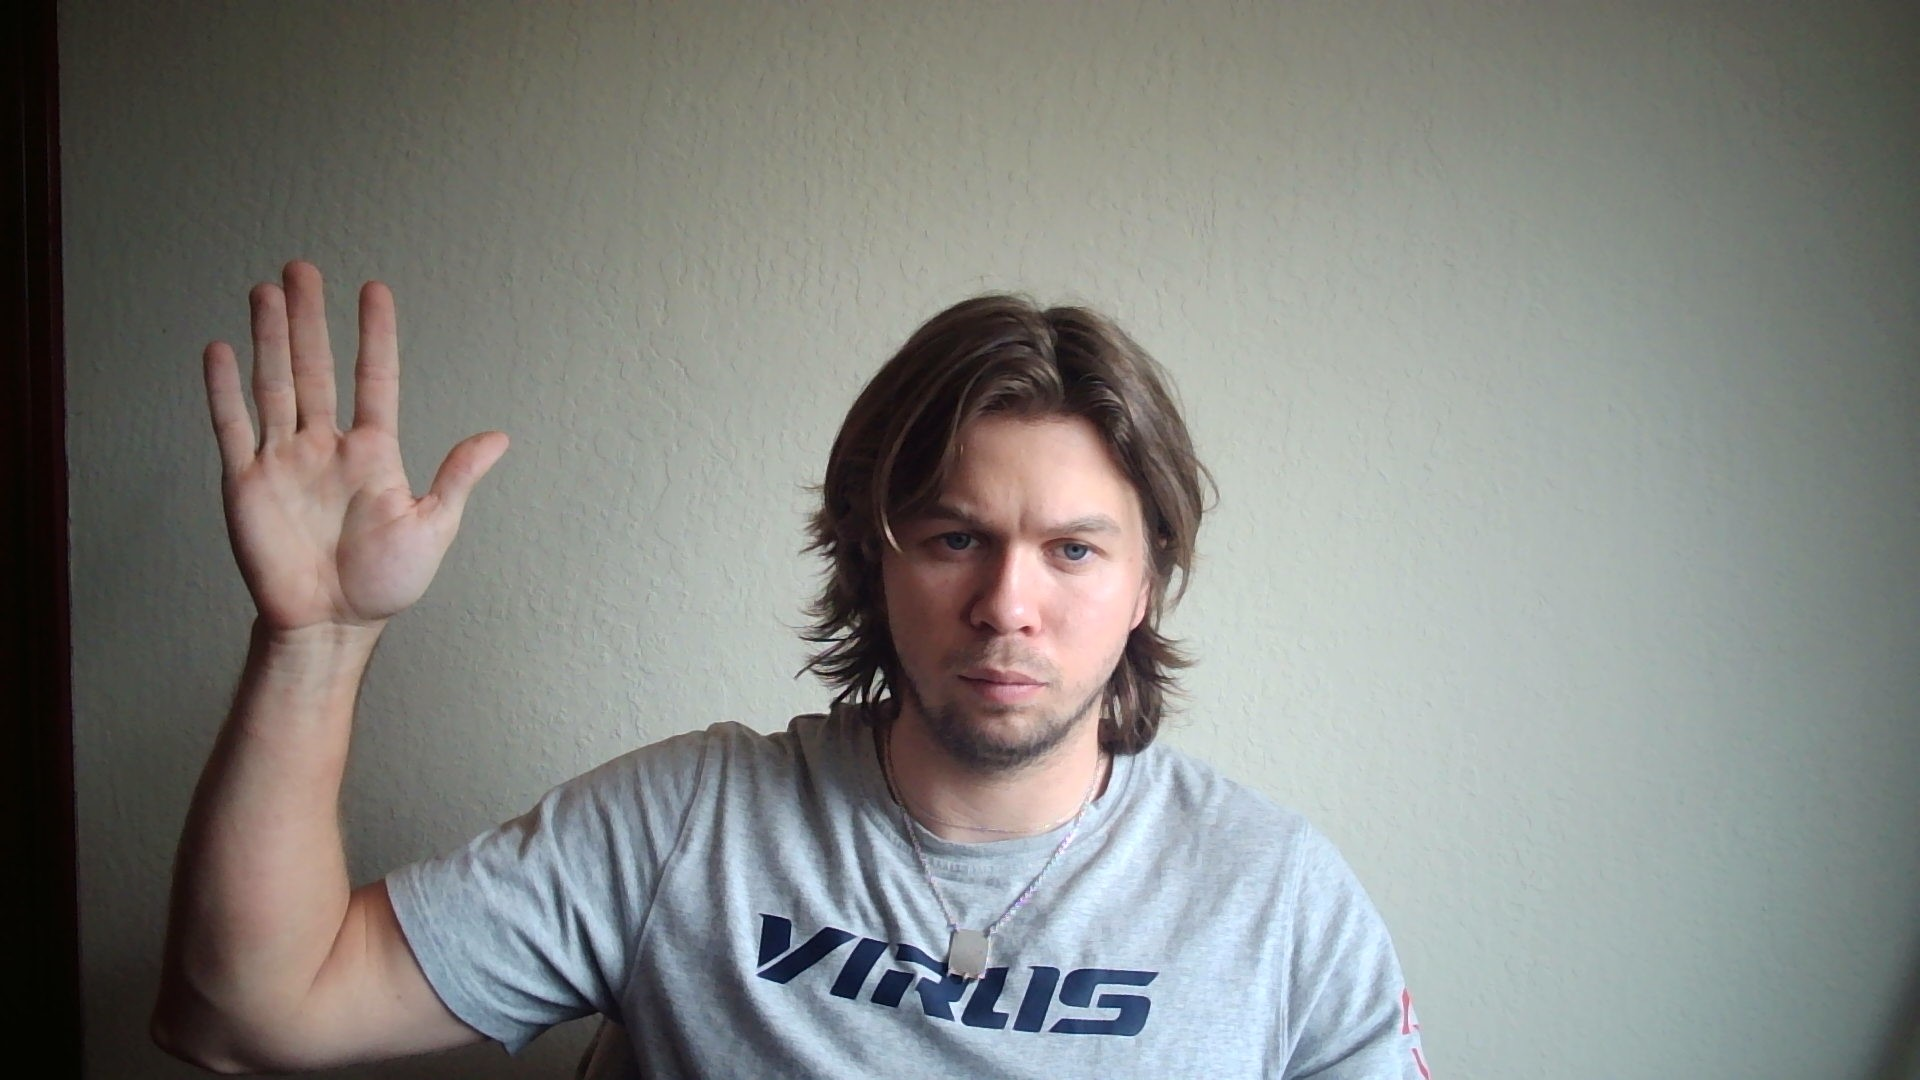hello: (204, 260, 509, 626)
